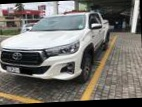car: (0, 11, 112, 87)
